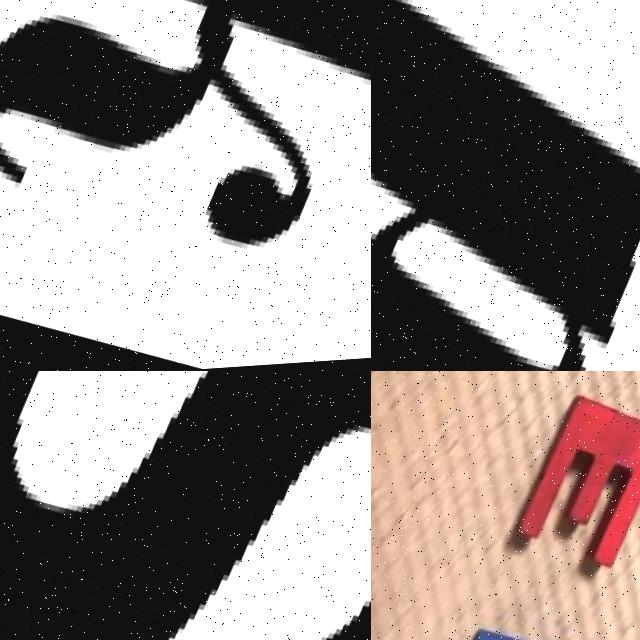E: (517, 391, 640, 588)
K: (0, 0, 371, 357)
P: (371, 0, 640, 371)
S: (0, 371, 371, 640)
